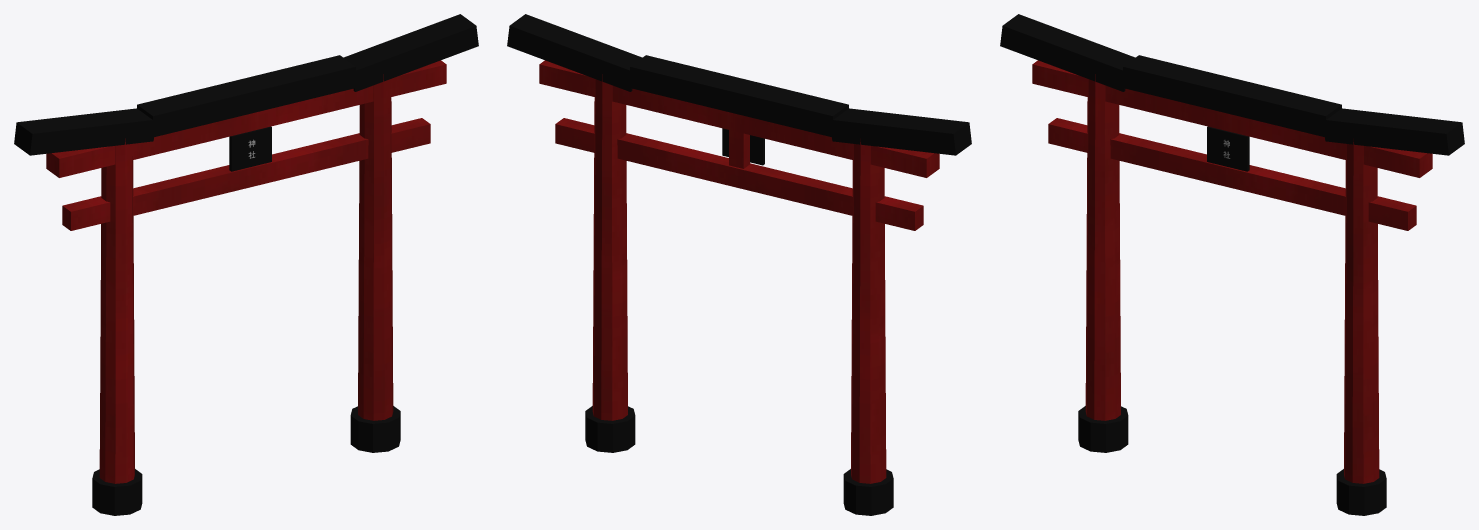
The model's file is torii.glb.
The picture shows the model from 3 angles, left to right: view 1: azimuth 30°, elevation 25°; view 2: azimuth 150°, elevation 25°; view 3: azimuth 330°, elevation 25°; orthographic projection.
Visible parts, largest first — view 1: torii; view 2: torii; view 3: torii.
Part boxes in pixels (bbox=[...]): torii: bbox=[14, 14, 478, 515]; torii: bbox=[507, 14, 971, 515]; torii: bbox=[1000, 14, 1464, 515].
Size of the model in its own units: 4.87 by 4.14 by 0.48.
3 materials, 3 textured.
